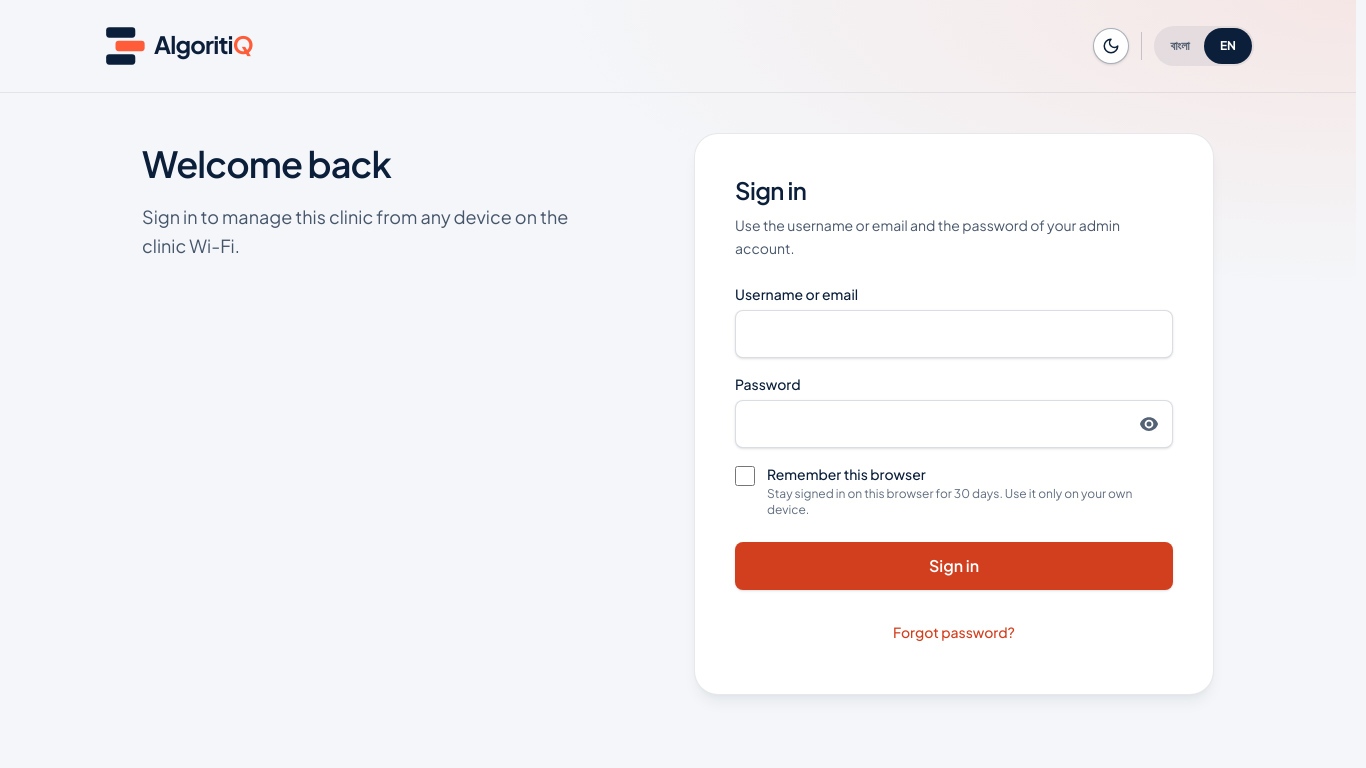
Test: sign-in › should tell how long to wait after too many tries
The width and height of the screenshot is (1366, 768).
Step 1. Type "Owner" into the field labelled "Username or email" → (954, 334), box left=735, top=310, right=1173, bottom=358
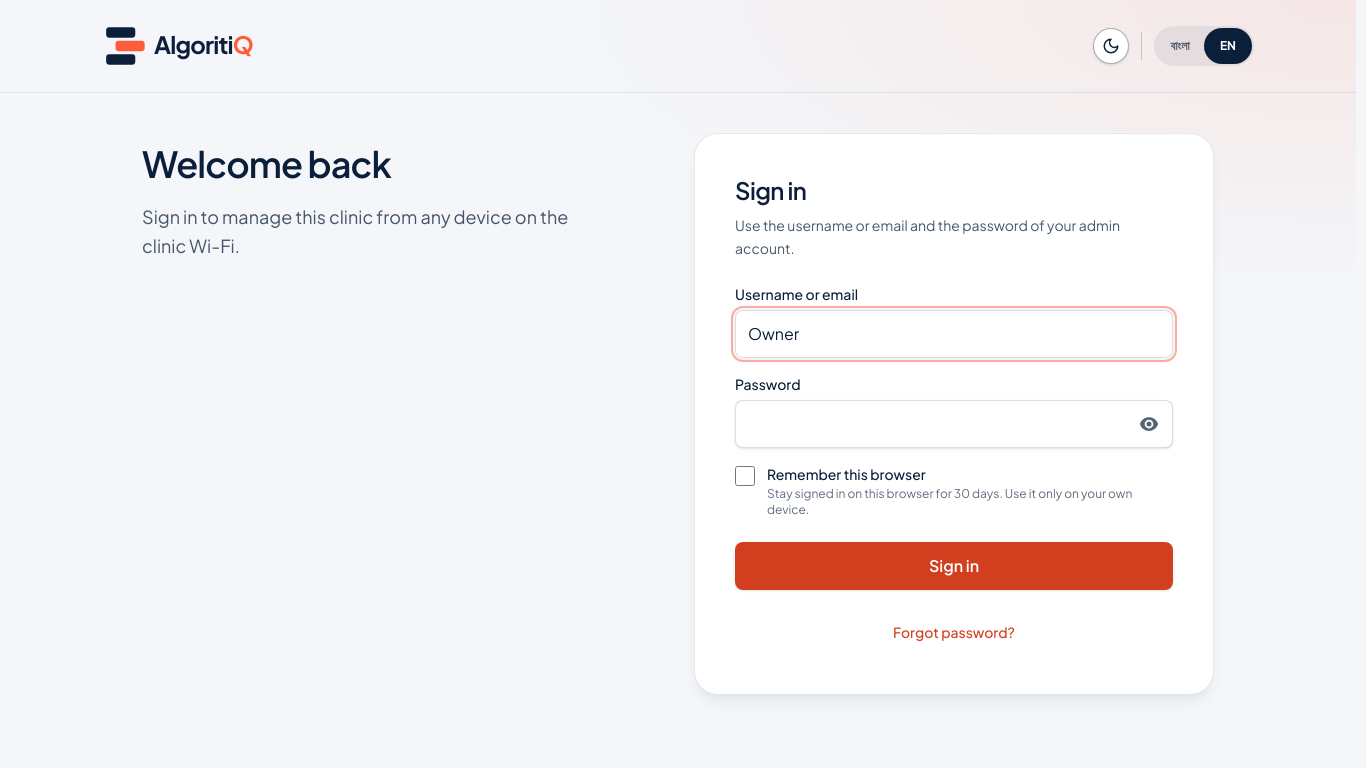
Step 2. Type "a-long-passphrase" into the password field labelled "Password" → (954, 424), box left=735, top=400, right=1173, bottom=448
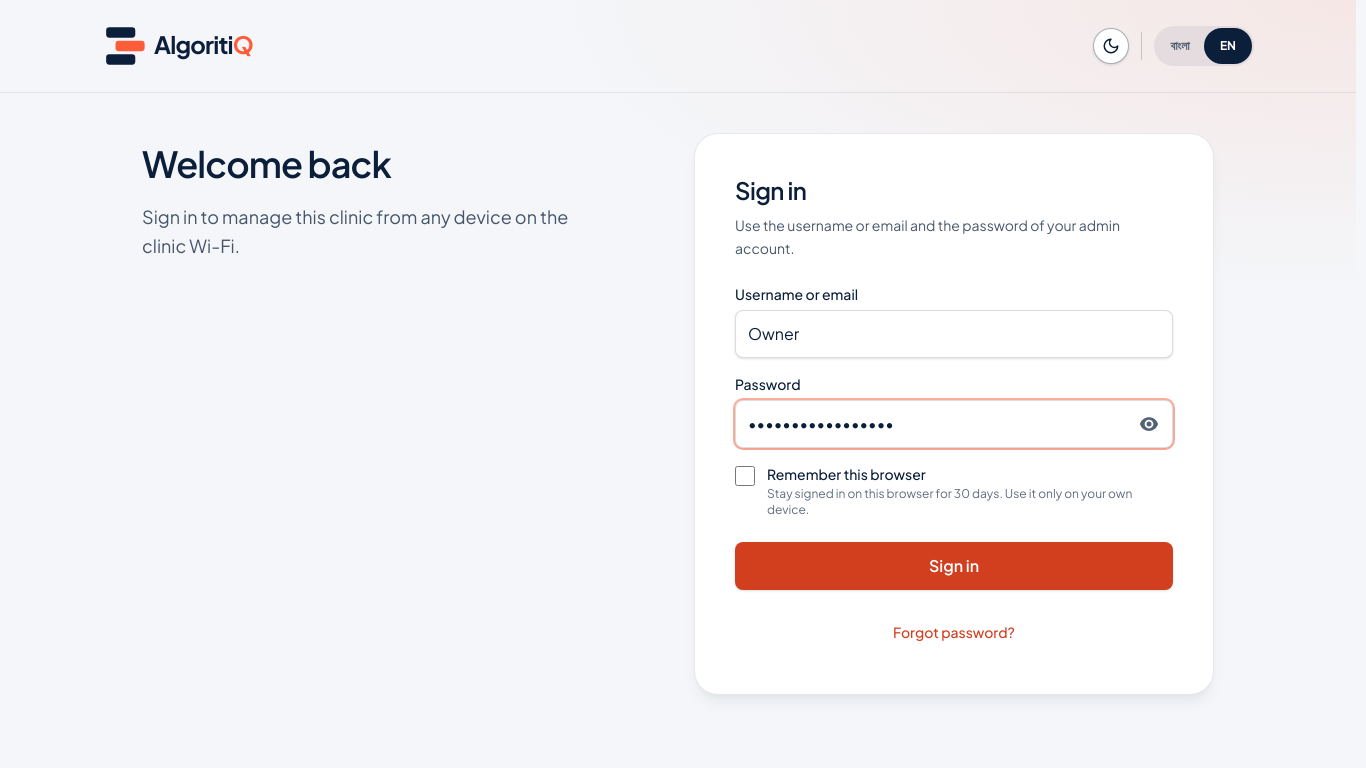
Step 3. Click the button "Sign in" → click(954, 566), box left=735, top=542, right=1173, bottom=590
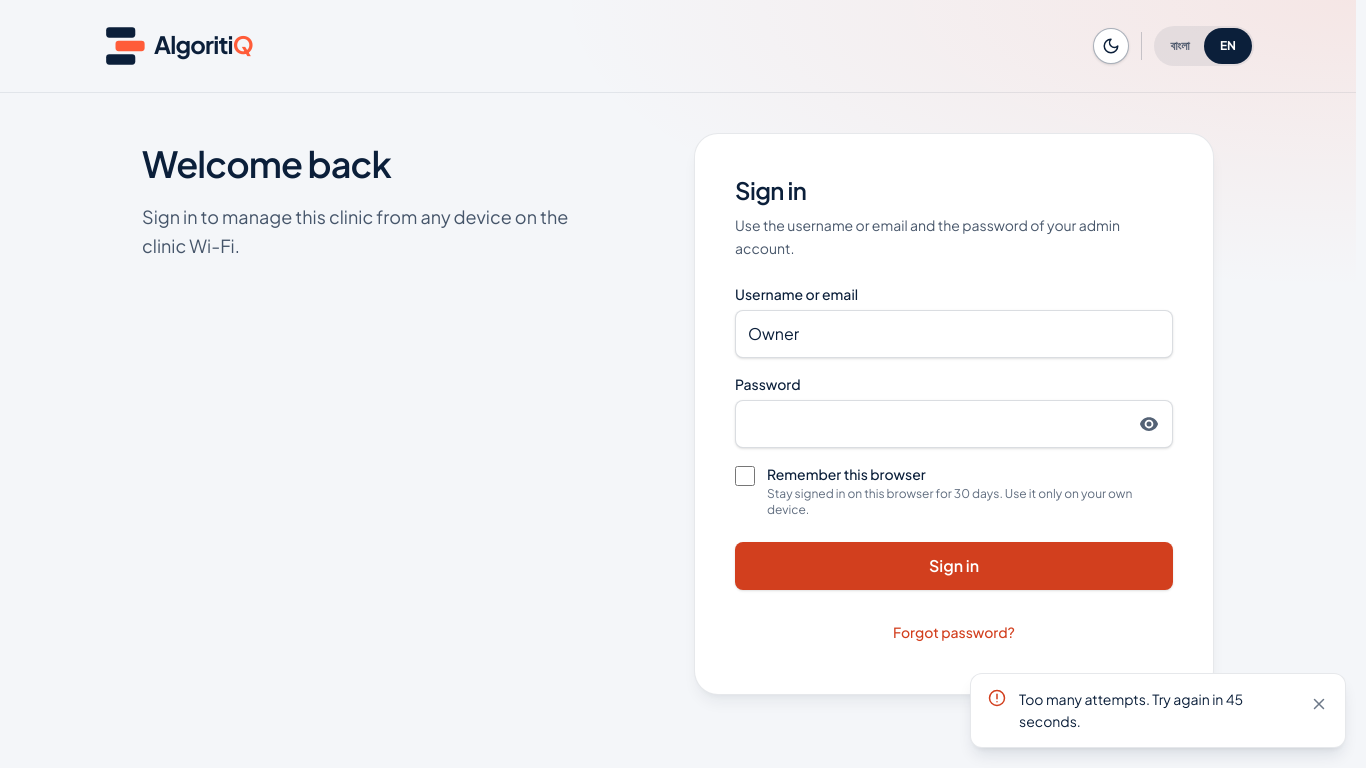
Expected: the message shows "Try again in 45 seconds.", left=1019, top=690, right=1243, bottom=730
